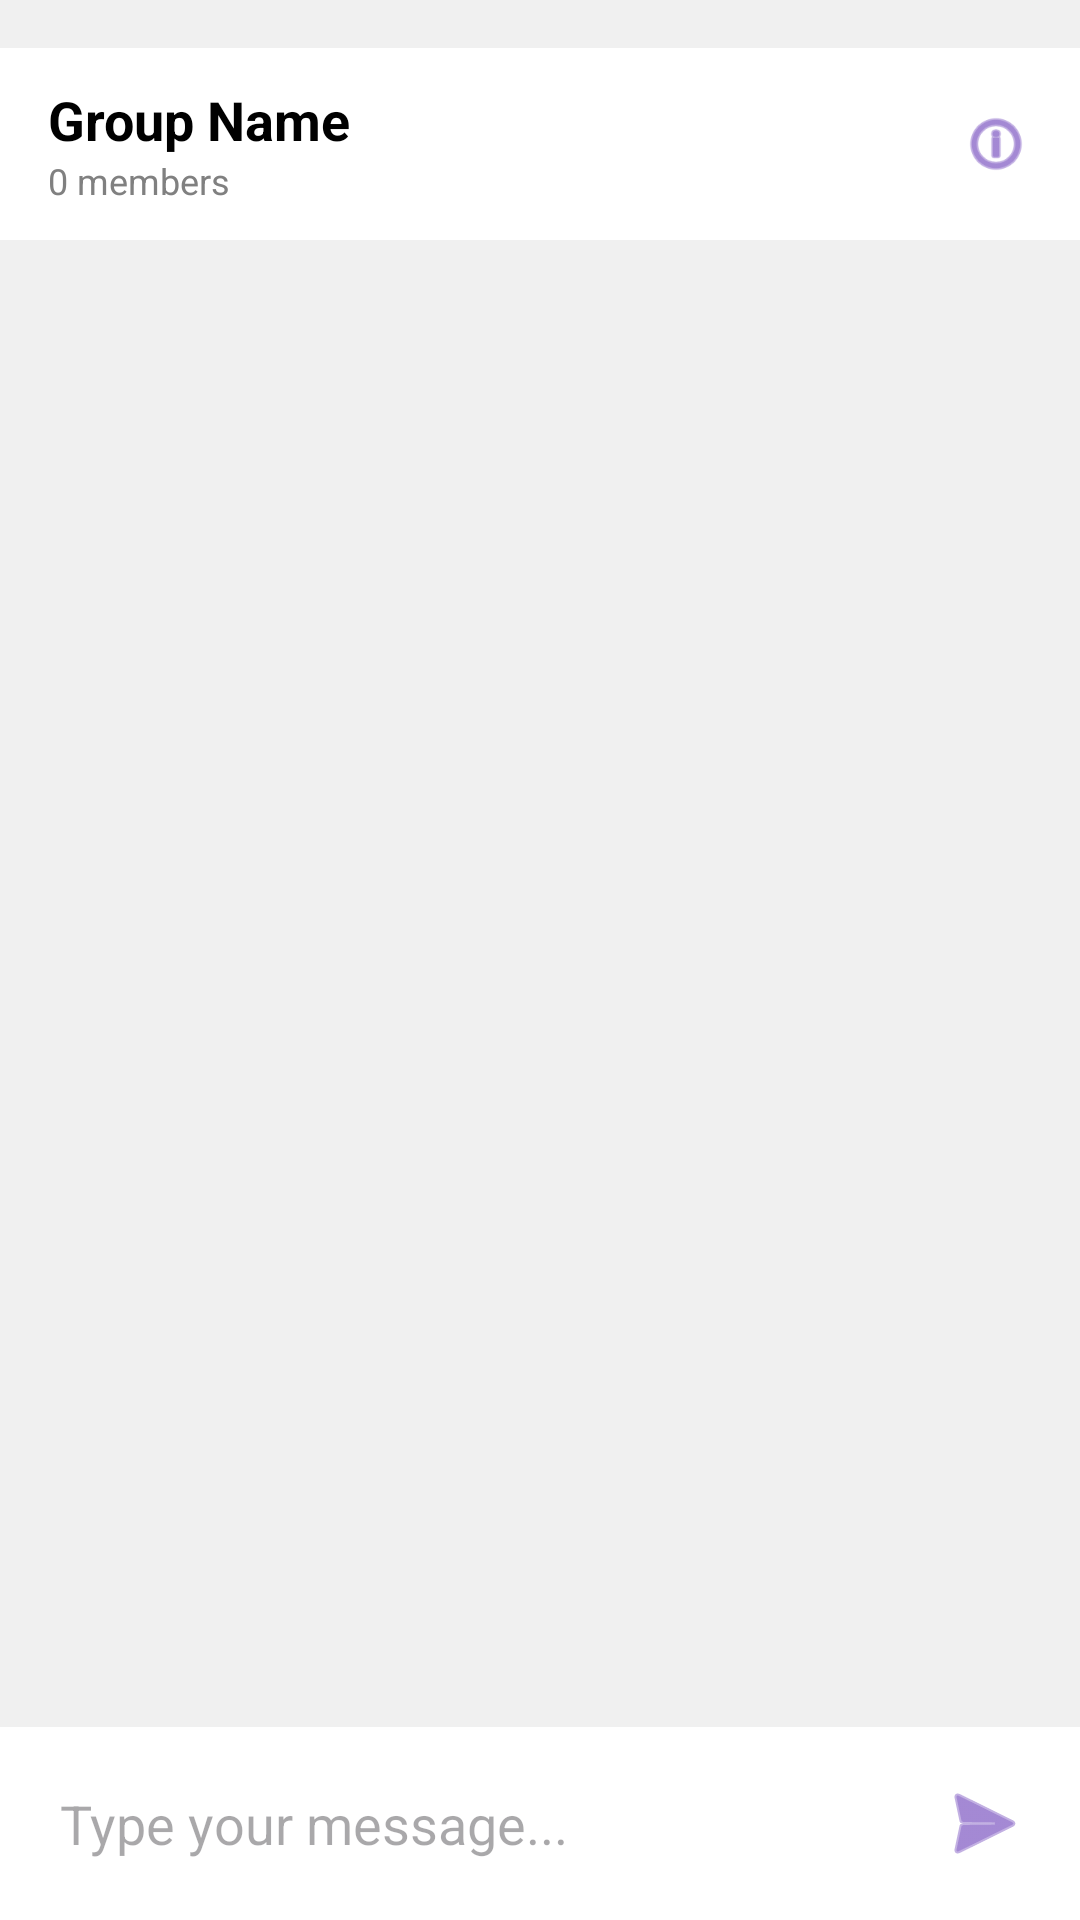

Where to tap for icons on this 1080 x 1920 app screen, as (x=x, y=y):
info details: (x=996, y=144)
Send message: (x=985, y=1823)
